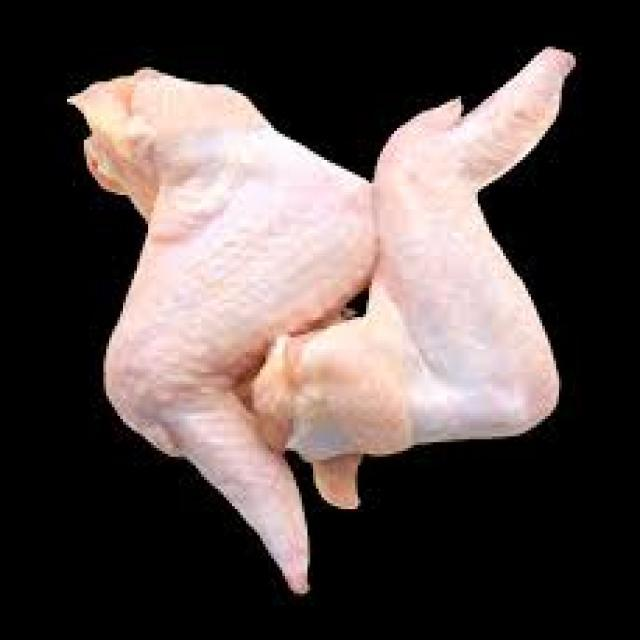wing: (69, 61, 378, 594), (291, 34, 600, 514)
